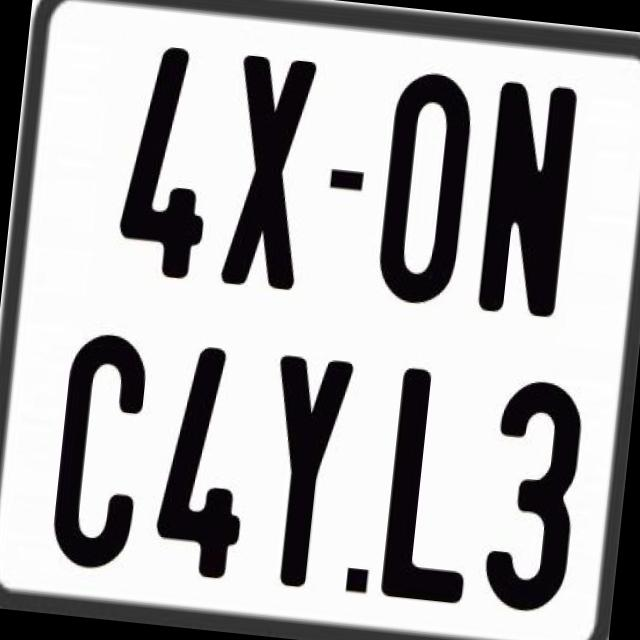0: (374, 68, 478, 314)
3: (477, 374, 589, 620)
4: (112, 40, 228, 287), (147, 338, 255, 580)
C: (48, 330, 150, 570)
L: (375, 362, 489, 602)
N: (476, 78, 578, 319)
X: (220, 49, 325, 296)
Y: (254, 349, 356, 585)
